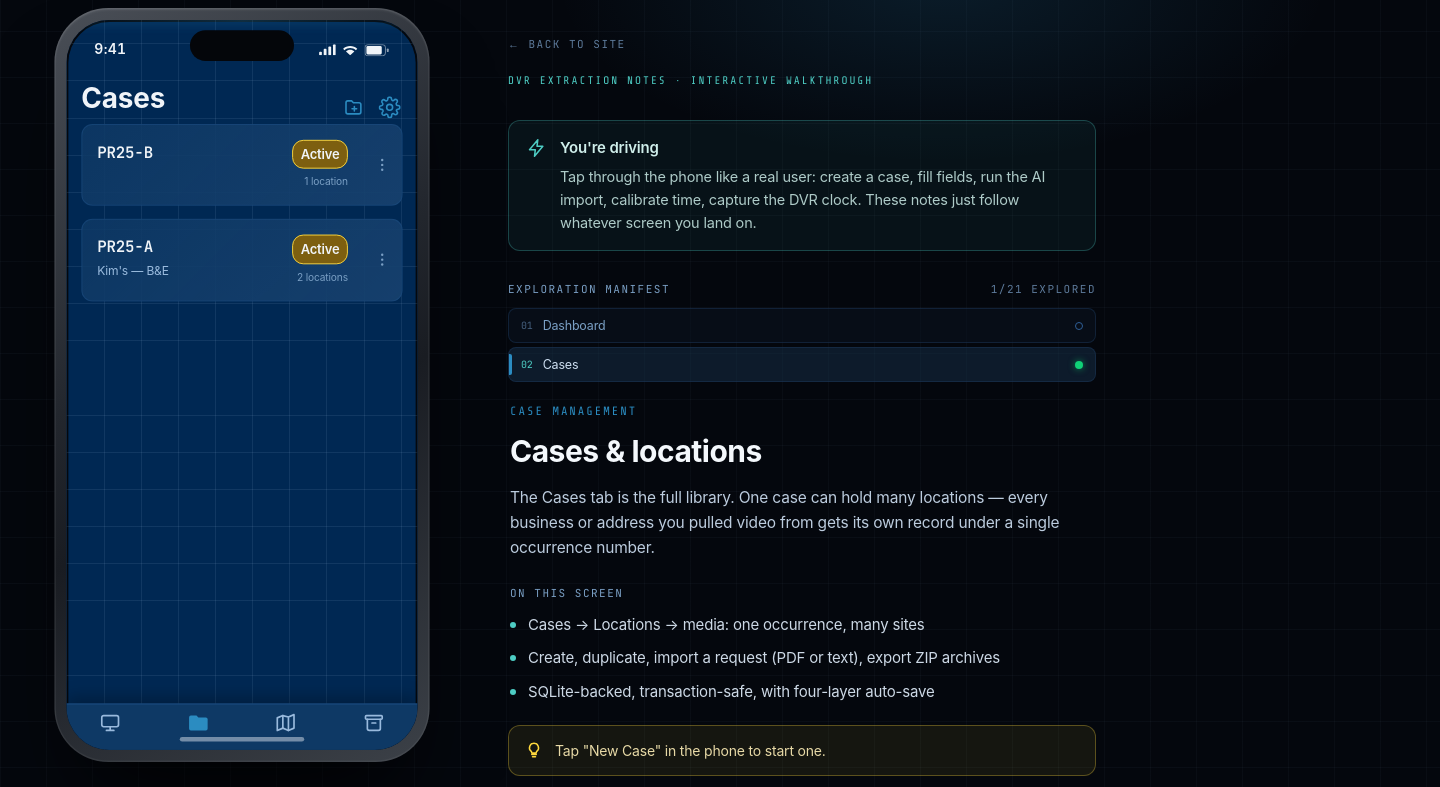
Test case: DemoExperience — the selection survives coherently (R-19) › deleting the case that owns the OPEN location returns the visitor to a live surface
Click the button named "Actions for case PR25-A".
click(382, 260)  # box [363,220,402,300]
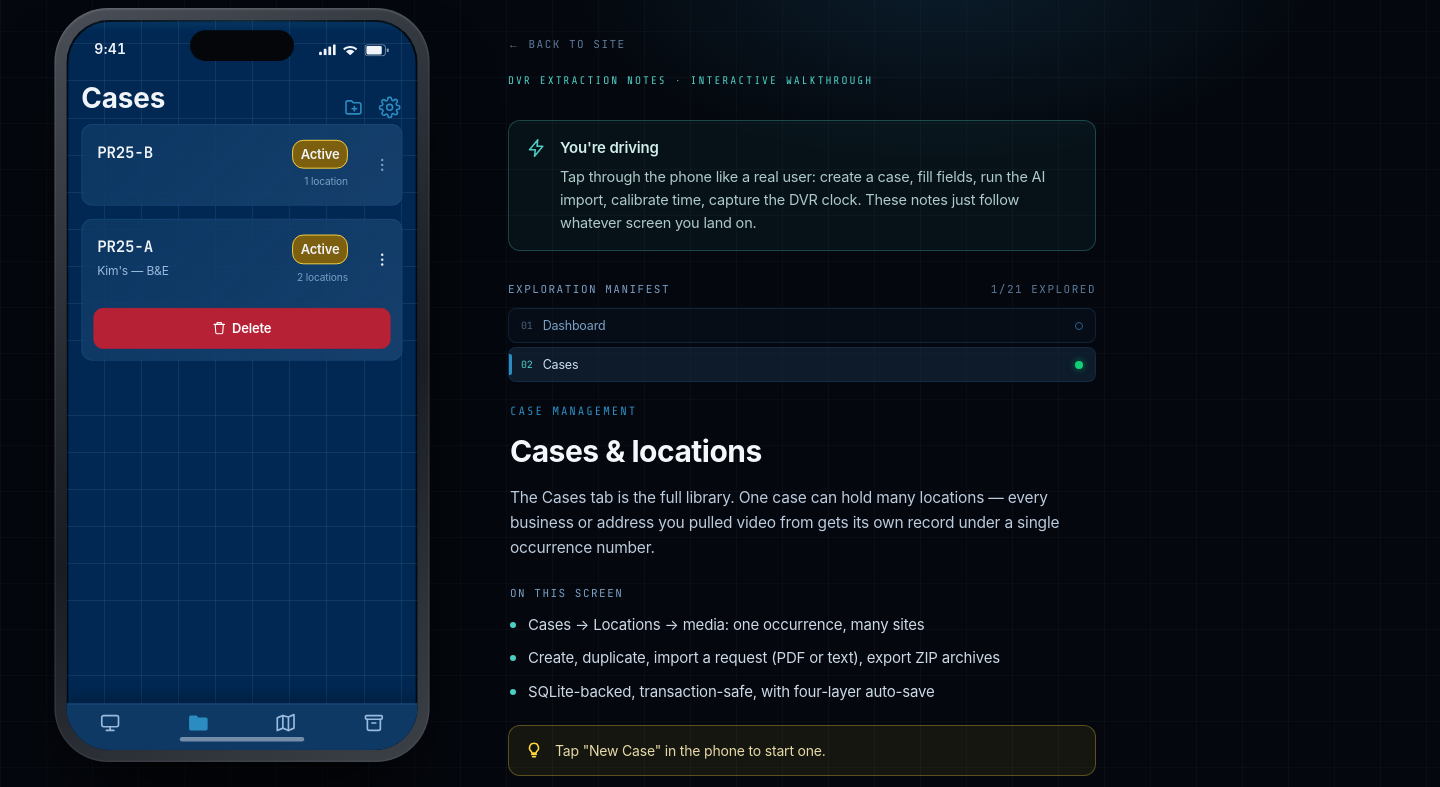
Click the button "Delete".
click(242, 328)  # box [93,308,390,348]
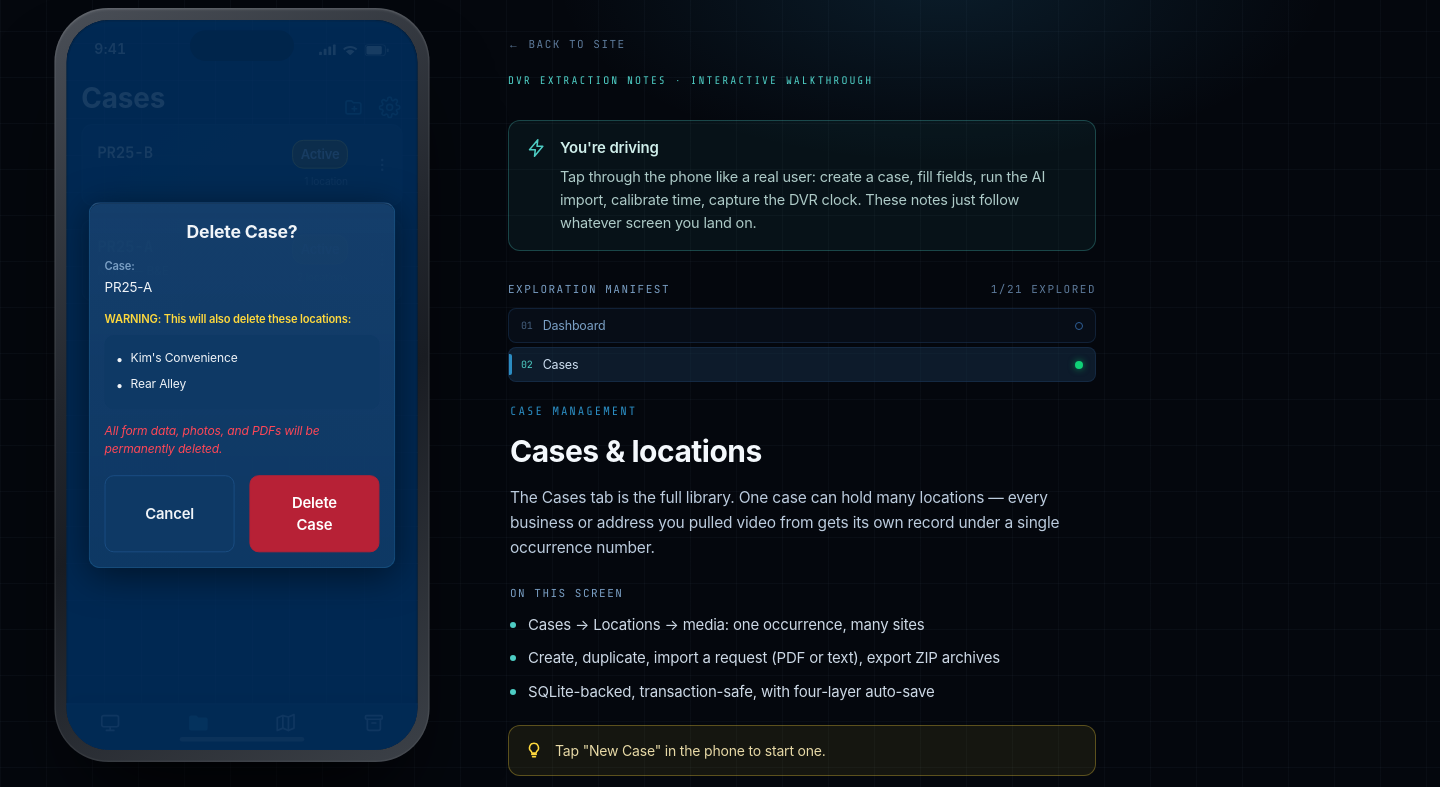
Click the button with test id "delete-modal-confirm".
click(314, 513)  # box [249,475,379,552]
(page scrolled)
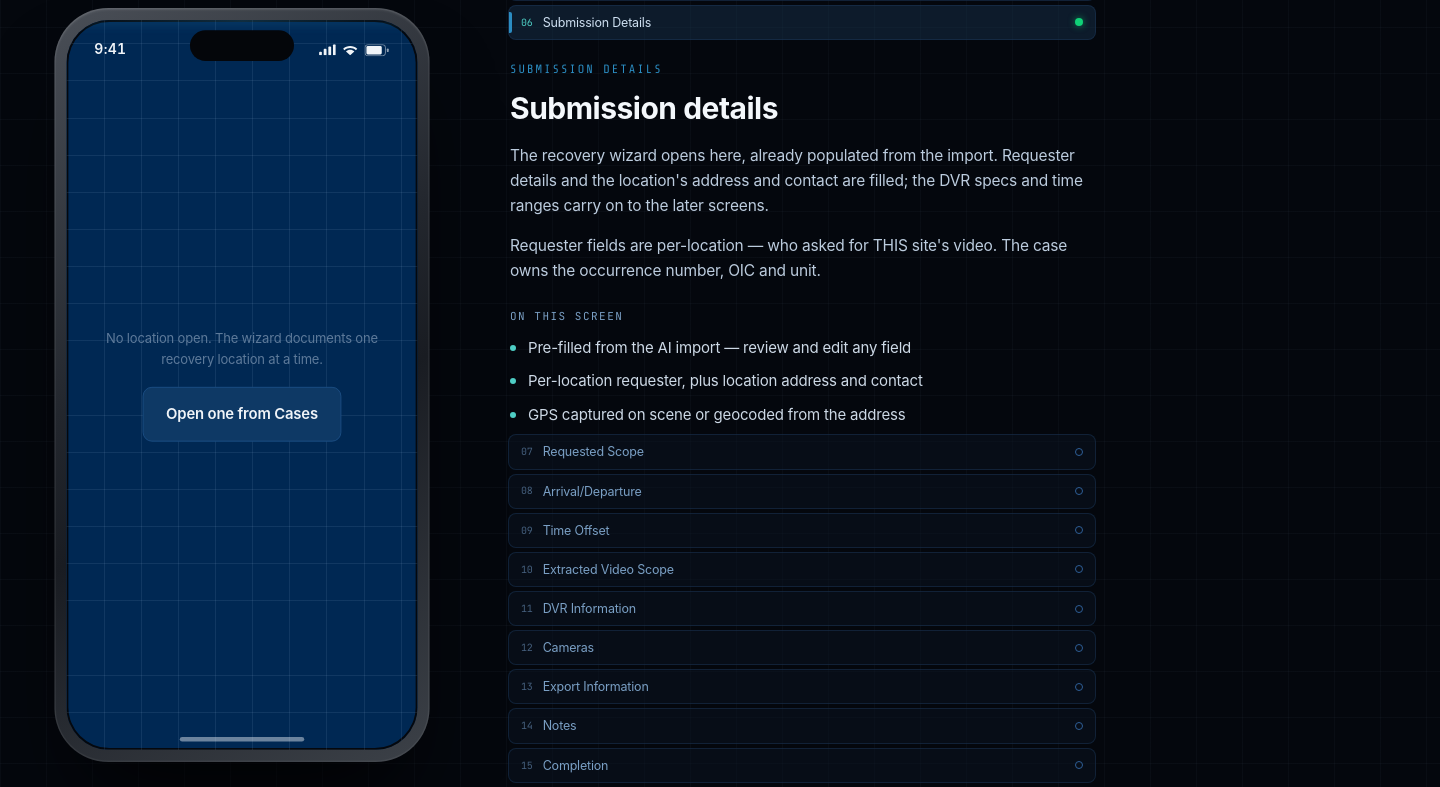
Check: the text "No location open" is shown, box [106,330,378,367]
